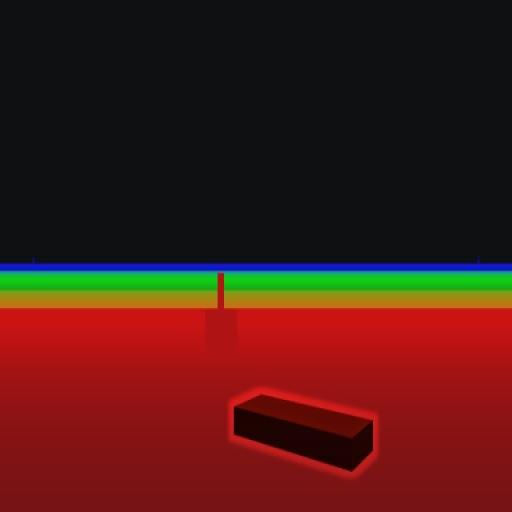debris_container: (230, 384, 377, 474)
